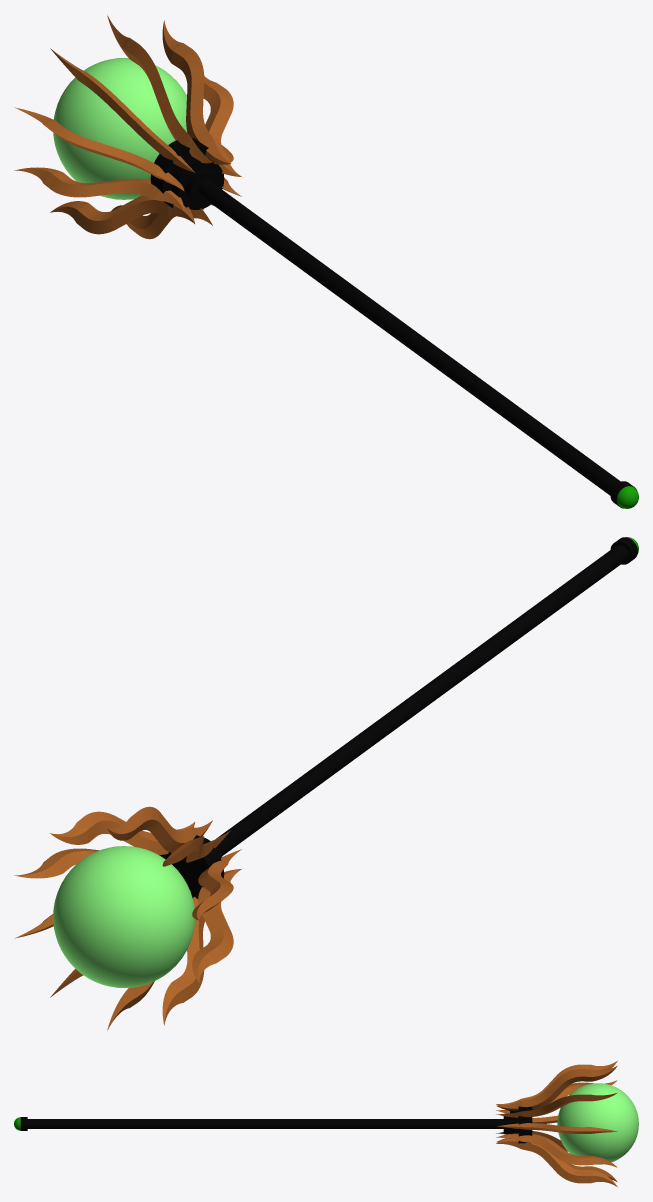
Rendered from Staf_3.obj.
3 views of the same model, one above another, from view 1: azimuth 30°, elevation 25°; view 2: azimuth 150°, elevation 25°; view 3: azimuth 270°, elevation 25° (orthographic). The views are drawn at different scales.
Visible parts, largest first — view 1: Cylinder, Sphere, Cone.2_9, Cone.2_4, Cone.2_3, Cone.2_0, Cone.2_1, Cone.2_2, Cone.2_8, Cone.2_5; view 2: Sphere, Cylinder, Cone.2_0, Cone.2_3, Cone.2_9, Cone.2_4, Cone.2_2, Cone.2_8, Cone.2_1; view 3: Cylinder, Sphere, Cone.2_0, Cone.2_6, Cone.2_7, Cone.2_9, Cone.2_8, Cone.2_1, Cone.2_2, Cone.2_5.
Part boxes in pixels (bbox=[...]): Cylinder: bbox=[150, 138, 636, 508]; Sphere: bbox=[53, 58, 187, 199]; Cone.2_9: bbox=[162, 20, 230, 164]; Cone.2_4: bbox=[50, 195, 194, 234]; Cone.2_3: bbox=[14, 167, 184, 210]; Cone.2_0: bbox=[107, 15, 212, 163]; Cone.2_1: bbox=[50, 48, 194, 172]; Cone.2_2: bbox=[15, 107, 184, 190]; Cone.2_8: bbox=[203, 76, 242, 177]; Cone.2_5: bbox=[111, 205, 212, 239]; Sphere: bbox=[53, 846, 194, 987]; Cylinder: bbox=[159, 537, 637, 899]; Cone.2_0: bbox=[107, 806, 212, 852]; Cone.2_3: bbox=[192, 868, 242, 983]; Cone.2_9: bbox=[50, 811, 194, 854]; Cone.2_4: bbox=[162, 882, 230, 1025]; Cone.2_2: bbox=[192, 849, 241, 920]; Cone.2_8: bbox=[14, 848, 99, 878]; Cone.2_1: bbox=[162, 830, 230, 866]; Cylinder: bbox=[20, 1106, 532, 1143]; Sphere: bbox=[557, 1083, 638, 1164]; Cone.2_0: bbox=[496, 1065, 617, 1110]; Cone.2_6: bbox=[496, 1138, 617, 1186]; Cone.2_7: bbox=[496, 1133, 617, 1167]; Cone.2_9: bbox=[496, 1093, 616, 1117]; Cone.2_8: bbox=[496, 1123, 617, 1133]; Cone.2_1: bbox=[496, 1061, 617, 1105]; Cone.2_2: bbox=[496, 1080, 617, 1113]; Cone.2_5: bbox=[496, 1138, 617, 1182].
Bounding box in the file's own units: 0.9051 × 0.9517 × 4.59.
